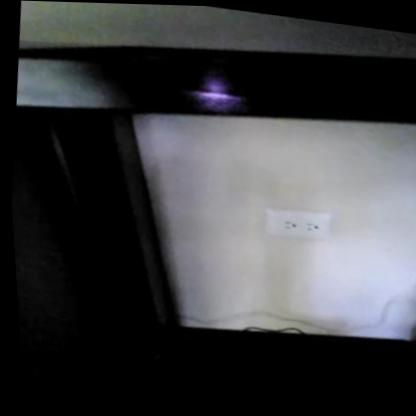OUTLET: (262, 204, 332, 242)
